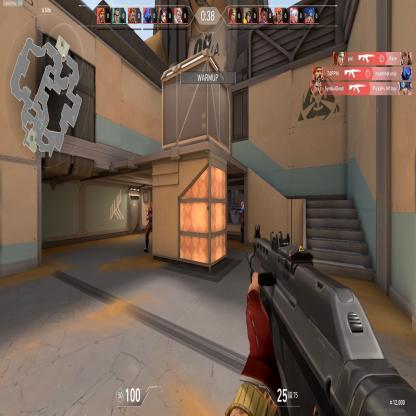enemy: (144, 200, 152, 253), (235, 201, 244, 243)
